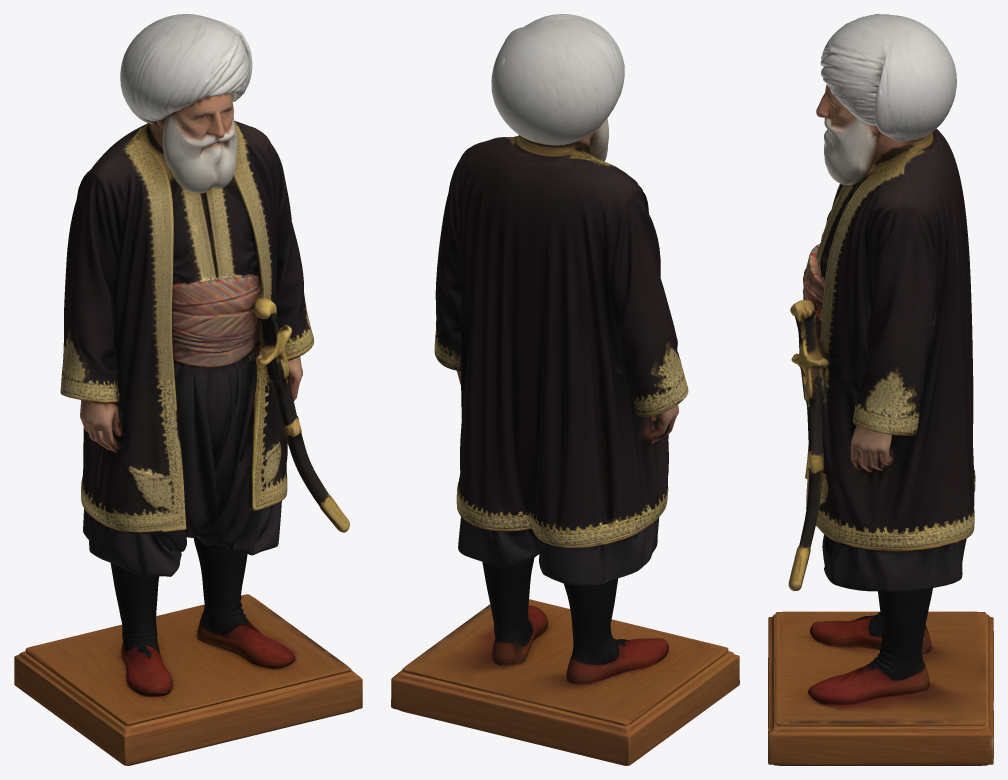
The model's file is mohamed-ali-optimized.glb.
The picture shows the model from 3 angles, left to right: view 1: azimuth 30°, elevation 25°; view 2: azimuth 150°, elevation 25°; view 3: azimuth 270°, elevation 25°; orthographic projection.
Visible parts, largest first — view 1: node_0; view 2: node_0; view 3: node_0.
Part boxes in pixels (x1,y1,x2,y2): node_0: (14, 14, 362, 765); node_0: (391, 14, 739, 765); node_0: (768, 14, 993, 765).
Size of the model in its own units: 0.4146 by 1.09 by 0.325.
1 material, 1 textured.
